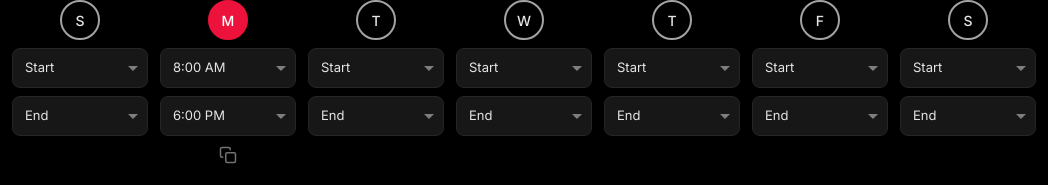
Test case: WeeklySchedule › Copy / Paste › exits copy mode when the active copy indicator is clicked
Click the button with test id "copy-btn-1" at [228, 155], box [217, 144, 239, 166]
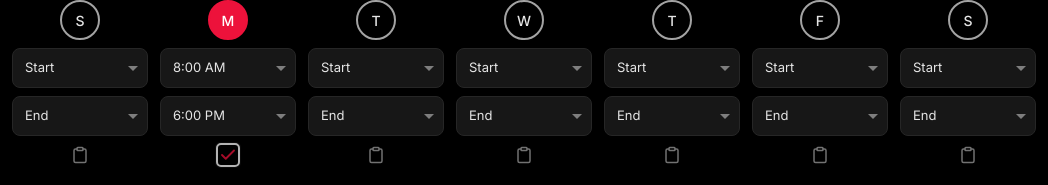
Result: the button with test id "copy-active-1" is shown
Note: Click the active indicator to cancel
Click the button with test id "copy-active-1" at [228, 155], box [217, 144, 239, 166]
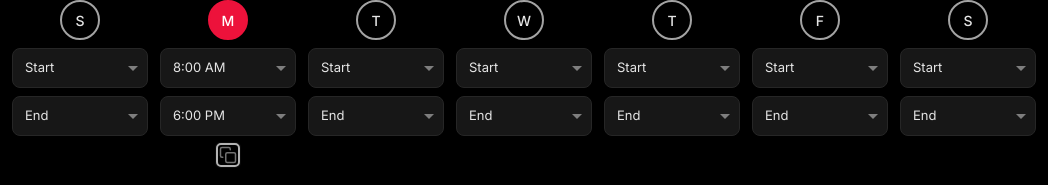
Result: the button with test id "copy-btn-1" is shown at [217, 144, 239, 166]
Result: the button with test id "paste-btn-0" is gone
